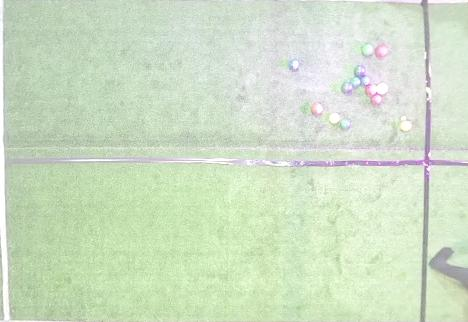blue: (289, 60, 299, 70), (360, 76, 370, 86)
green: (361, 44, 374, 56), (354, 65, 366, 77), (341, 82, 353, 94), (340, 119, 351, 130), (350, 77, 360, 87)
red: (375, 45, 388, 58), (377, 83, 388, 95), (312, 103, 323, 115), (371, 94, 382, 105), (366, 84, 377, 95)
vline: (420, 1, 468, 321), (0, 1, 13, 321)
white: (401, 116, 406, 121)
yellow: (400, 121, 412, 131), (329, 113, 340, 123)
